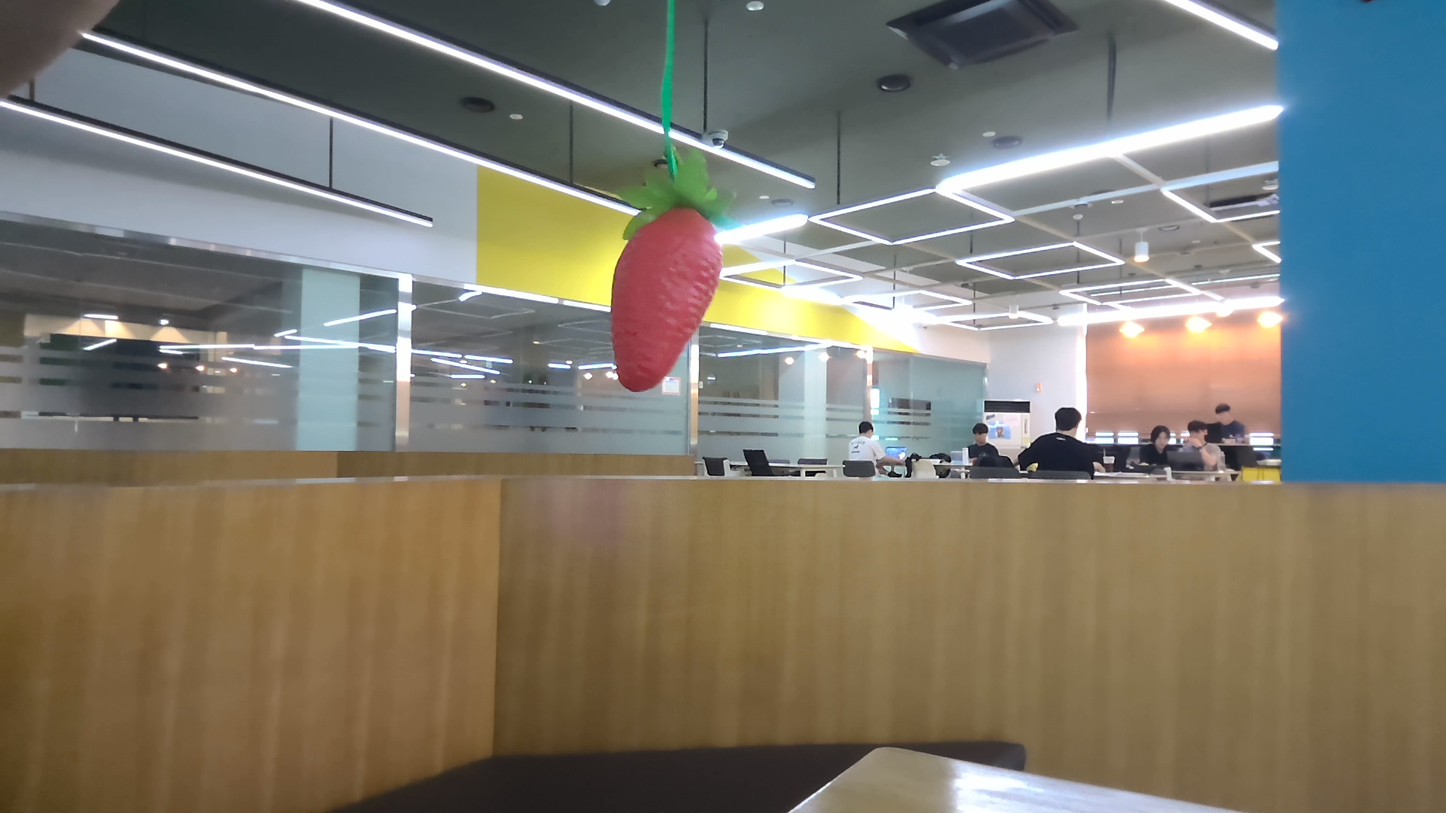strawberry: (590, 190, 734, 399)
